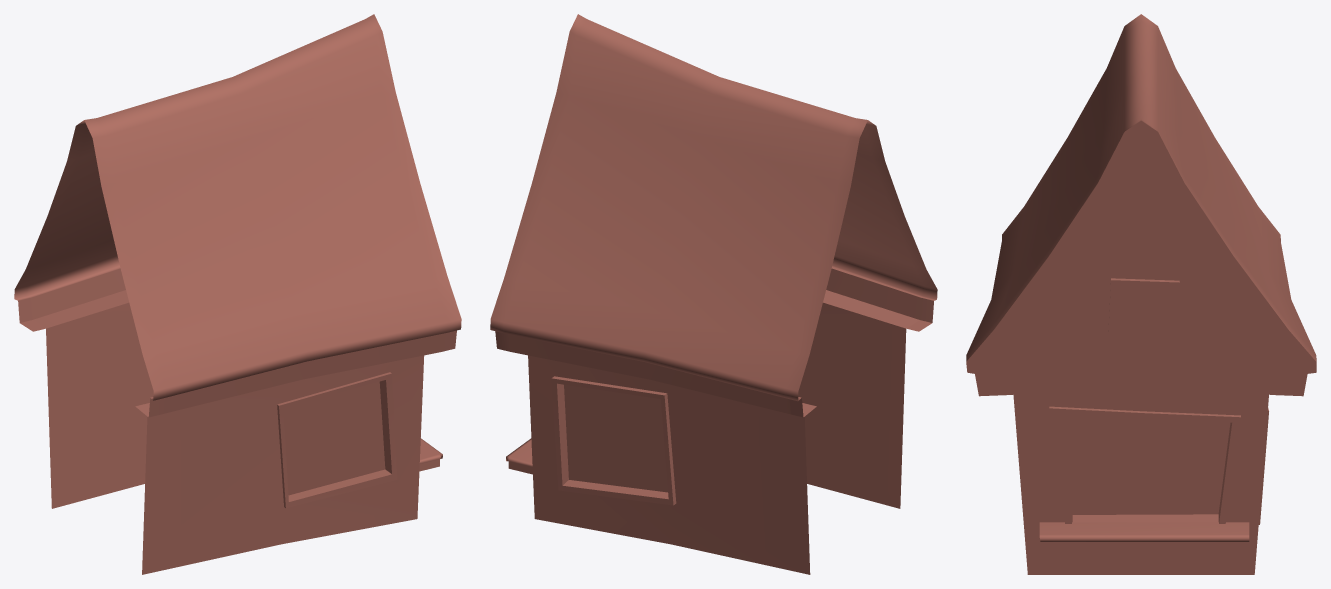
File: home.fbx
The picture shows the model from 3 angles, left to right: view 1: azimuth 30°, elevation 25°; view 2: azimuth 150°, elevation 25°; view 3: azimuth 270°, elevation 25°; orthographic projection.
Parts seen in each view (by area): view 1: home3; view 2: home3; view 3: home3.
Part boxes in pixels (x1,y1,x2,y2): home3: [14, 14, 461, 574]; home3: [490, 14, 937, 574]; home3: [966, 14, 1316, 574].
Bounding box in the file's own units: 74.69 × 107 × 73.46.
